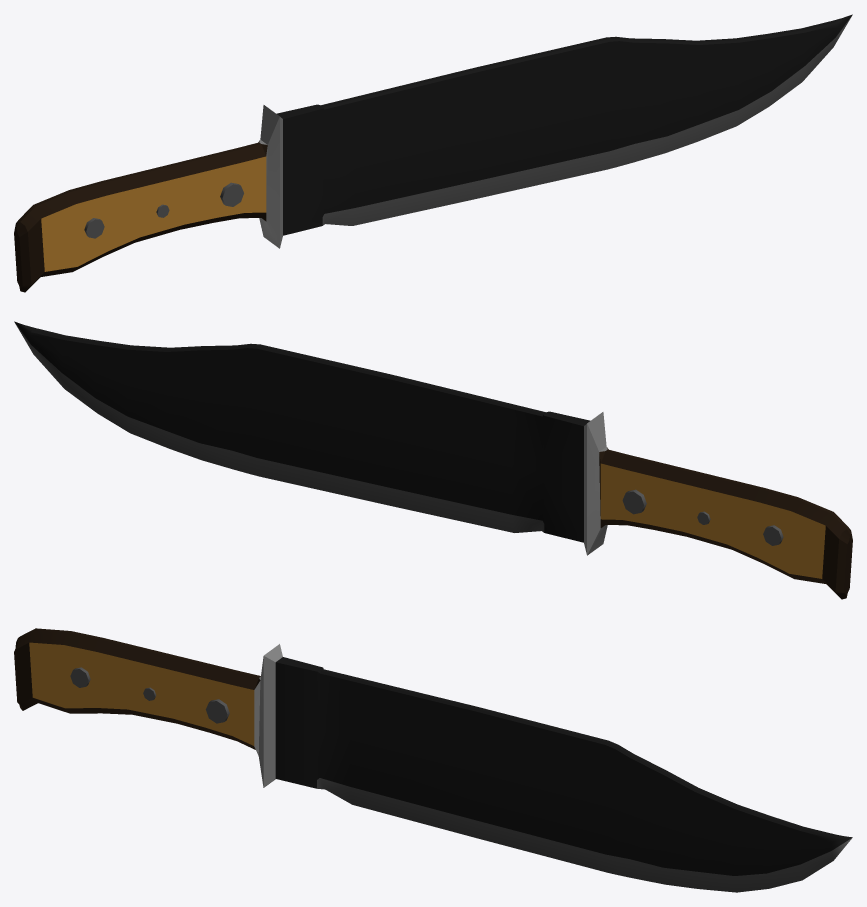
File: Bowie_Knife.fbx
The picture shows the model from 3 angles, top to bottom: view 1: azimuth 30°, elevation 25°; view 2: azimuth 150°, elevation 25°; view 3: azimuth 330°, elevation 25°; orthographic projection.
Parts seen in each view (by area): view 1: Plane002; view 2: Plane002; view 3: Plane002.
Part boxes in pixels (left/top/right/bottom): Plane002: left=14, top=14, right=852, bottom=292; Plane002: left=14, top=321, right=852, bottom=599; Plane002: left=14, top=628, right=852, bottom=892.
Size of the model in its own units: 109 by 17.63 by 3.84.
